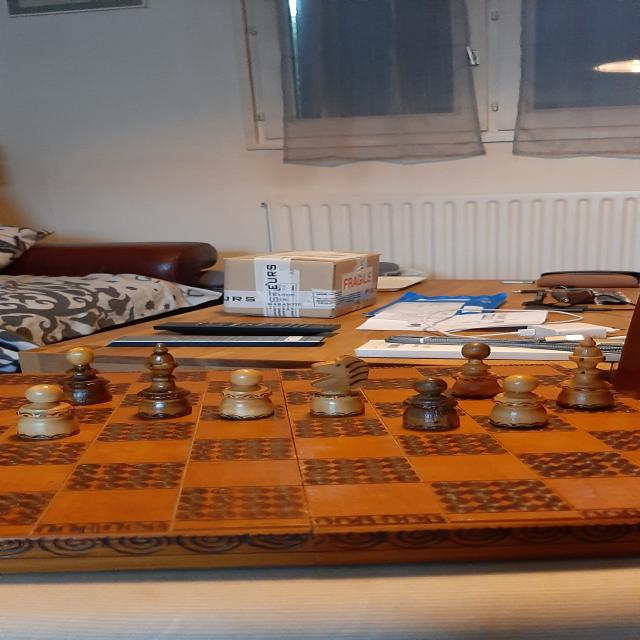black-bishop: (58, 347, 112, 405)
black-pawn: (402, 376, 461, 430)
black-queen: (137, 343, 192, 419)
white-bishop: (450, 342, 501, 398)
white-knight: (309, 354, 369, 416)
white-pawn: (15, 384, 80, 439), (488, 374, 550, 428), (218, 368, 275, 418)
white-queen: (555, 337, 615, 408)
